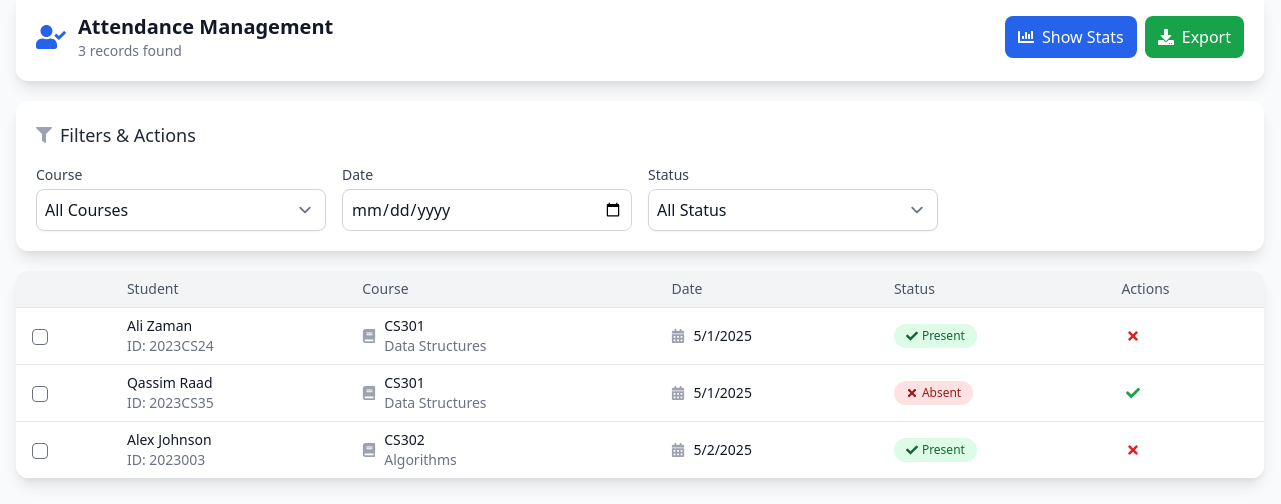
Test: AttendanceList › shows bulk actions when rows are selected
Click the checkbox next to "Ali Zaman" at (40, 337), box x1=32 y1=329 x2=48 y2=345
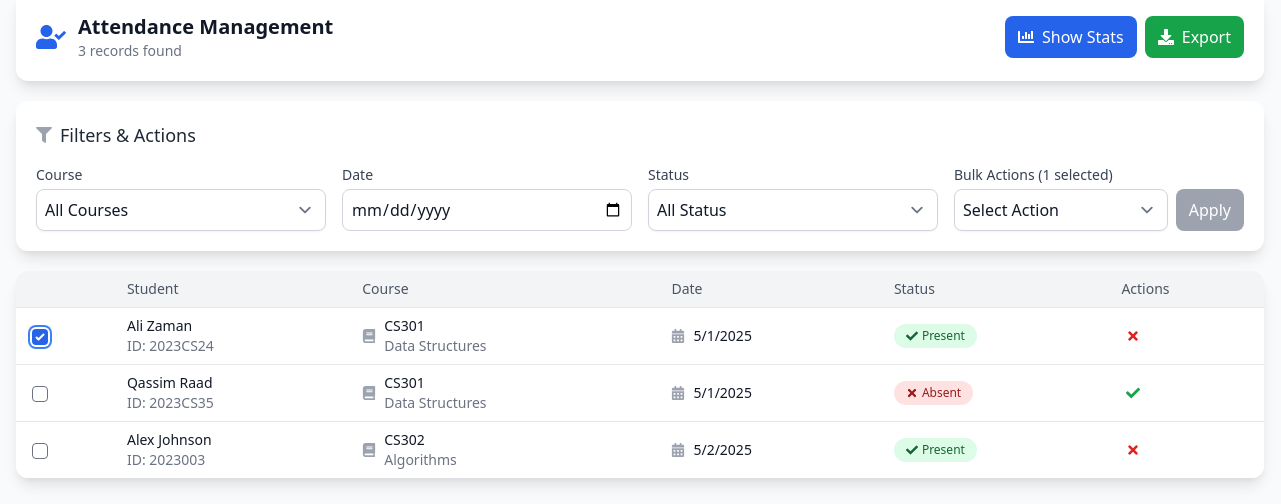
Now the text "Bulk Actions (1 selected)" is shown, box x1=954 y1=165 x2=1113 y2=184
